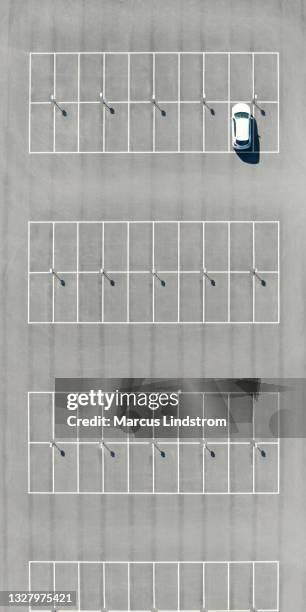car: (224, 101, 259, 154)
